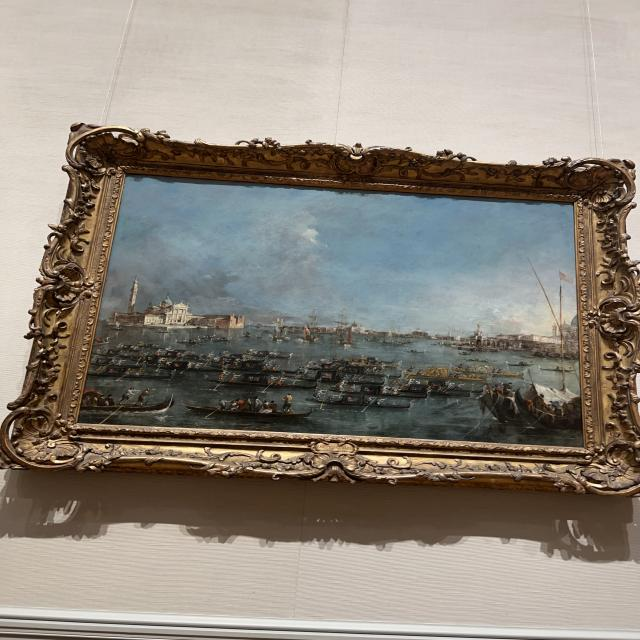ships: (78, 178, 578, 444)
